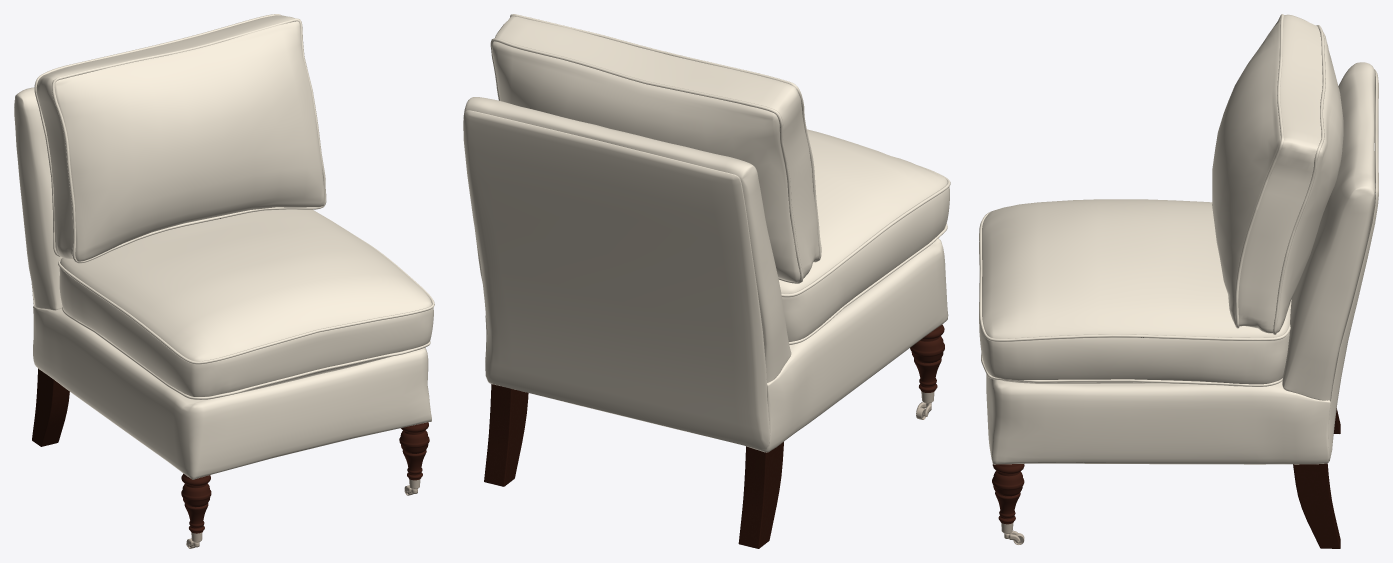
The model's file is office_chair_B075X33SSW.glb.
The picture shows the model from 3 angles, left to right: view 1: azimuth 30°, elevation 25°; view 2: azimuth 150°, elevation 25°; view 3: azimuth 270°, elevation 25°; orthographic projection. The views are drawn at different scales.
Parts seen in each view (by area): view 1: RootNode; view 2: RootNode; view 3: RootNode.
Part boxes in pixels (box(x1,y1,x2,y2)): RootNode: box(14, 14, 434, 548); RootNode: box(463, 14, 950, 548); RootNode: box(979, 14, 1378, 548).
Bounding box in the file's own units: 0.6297 × 0.8866 × 0.781.
1 material, 1 textured.
